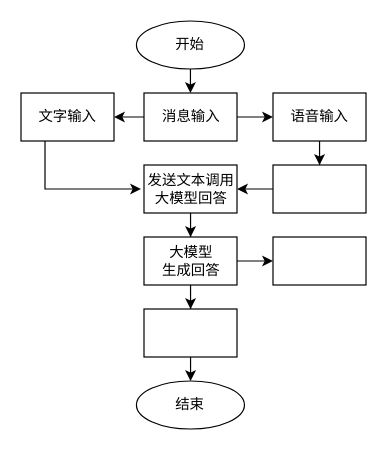
Some shapes in this 388 by 450 pixel diagram are drawn without their labels. Here are the shapes that lost their labels. From the top down, the box of each, then its label:
(272, 164, 366, 213): 调用 Web Speech API
(272, 236, 366, 285): 消息存储实现多轮对话记忆
(143, 308, 237, 357): 调用 Edge-TTS语音合成
